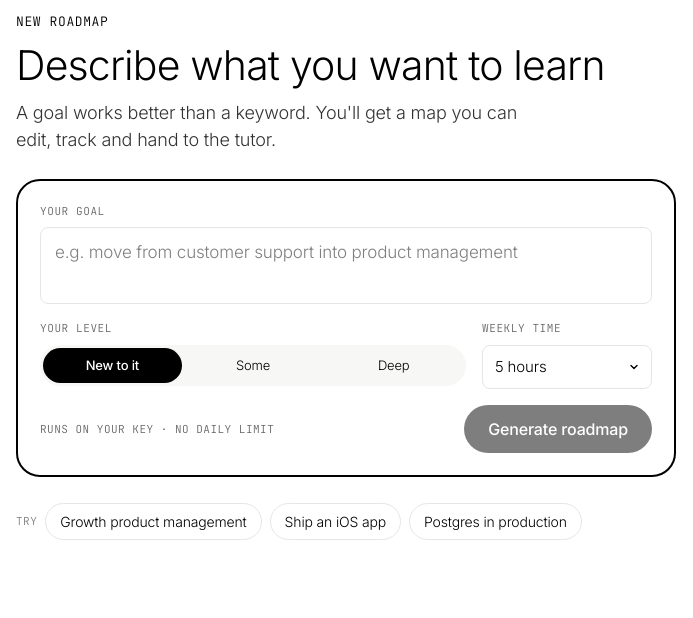
CreateRoadmapPane generation flow › handles a non-OK pre-stream response (no_provider_key)
Step 1. Type "Learn TypeScript properly" into the text box labelled "Your goal" → (346, 266), box left=40, top=227, right=652, bottom=304
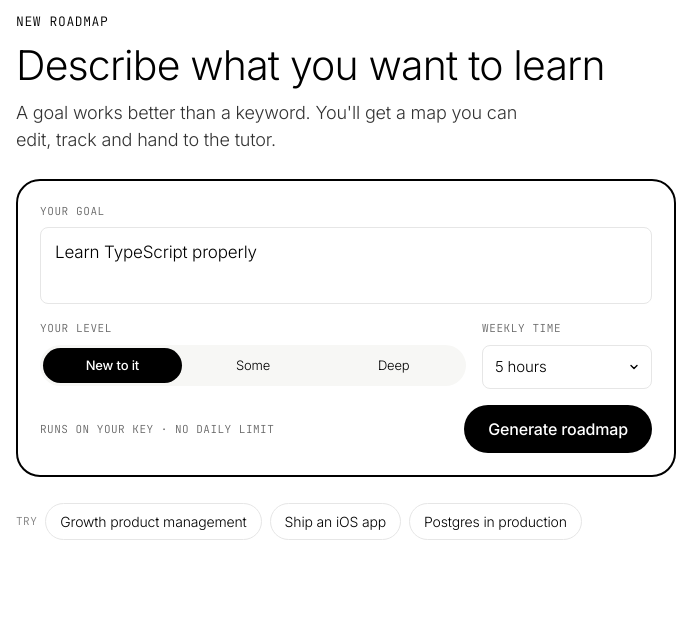
Step 2. Click the button "Generate roadmap" → click(558, 429), box left=464, top=405, right=652, bottom=453
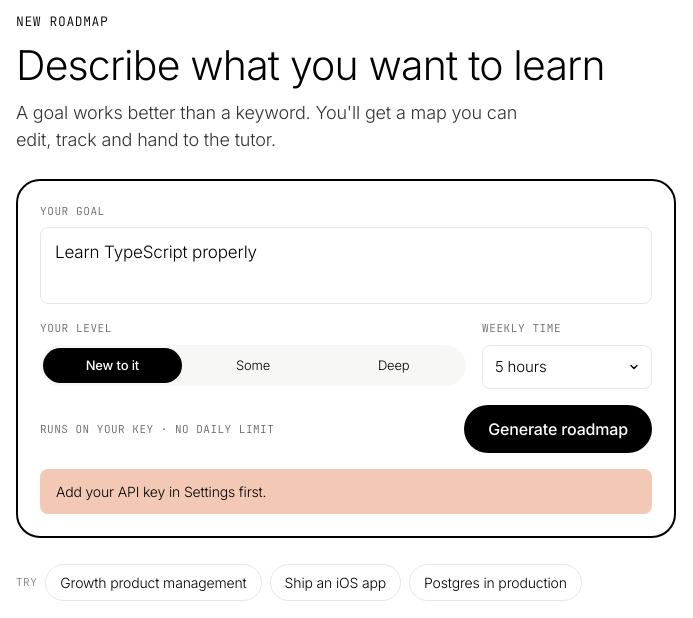
Check: the text "Add your API key in Settings first." is shown, box left=40, top=469, right=652, bottom=514
